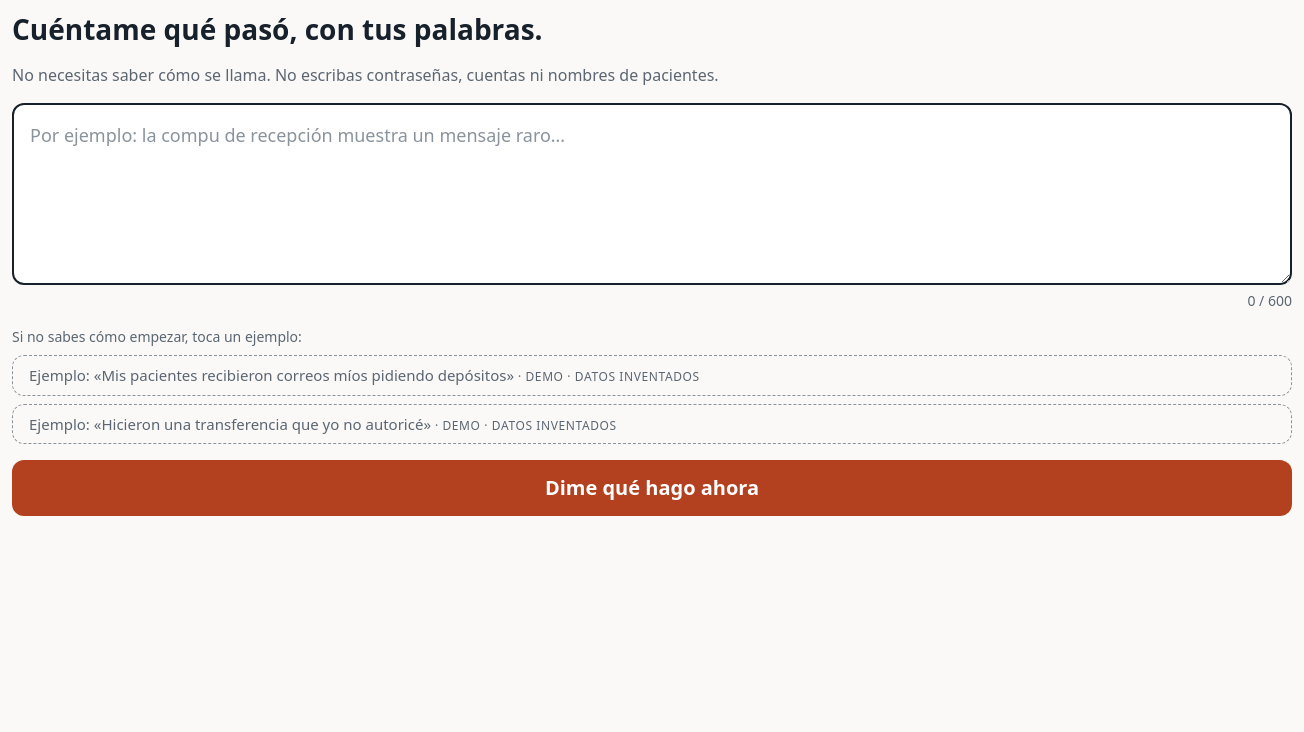
Test case: describe screen › rejects a 3-character input in Spanish and sends nothing
Type "hol" into the text box at (652, 194), box x1=12 y1=103 x2=1292 y2=285
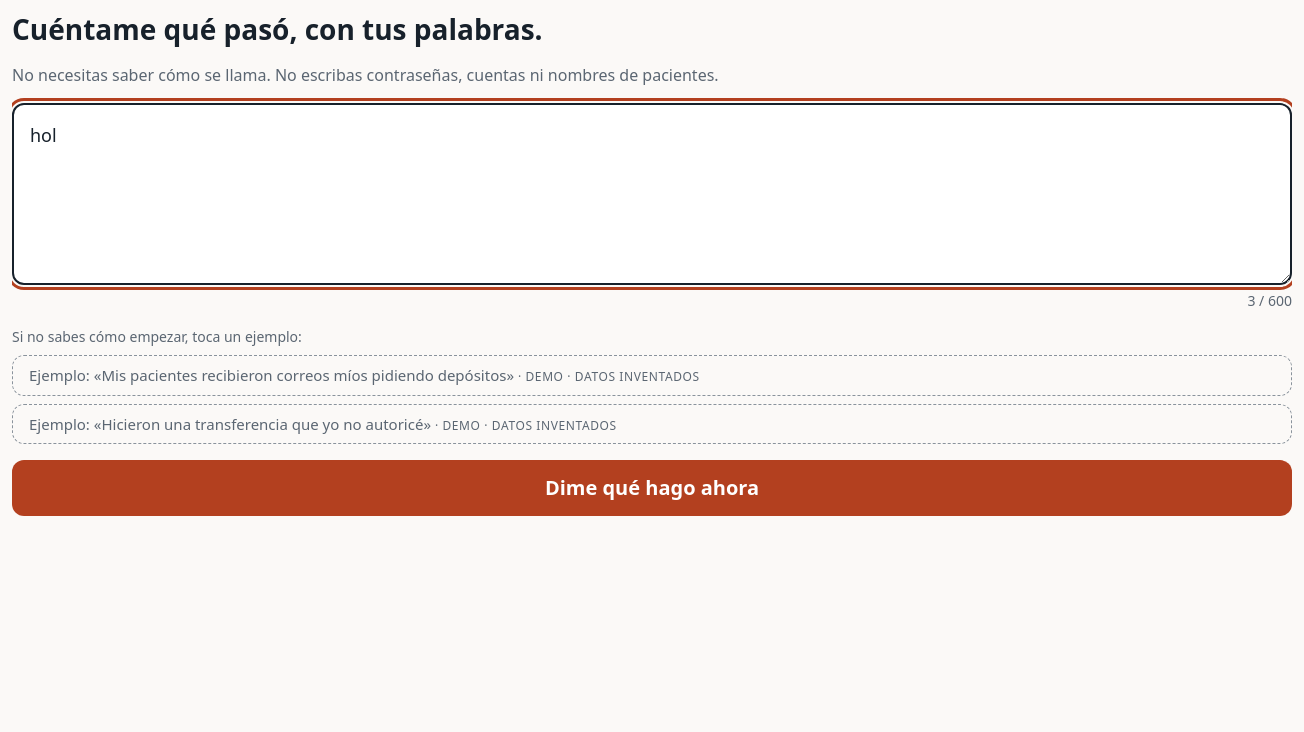
Click the button "Dime qué hago ahora" at (652, 488), box x1=12 y1=460 x2=1292 y2=516
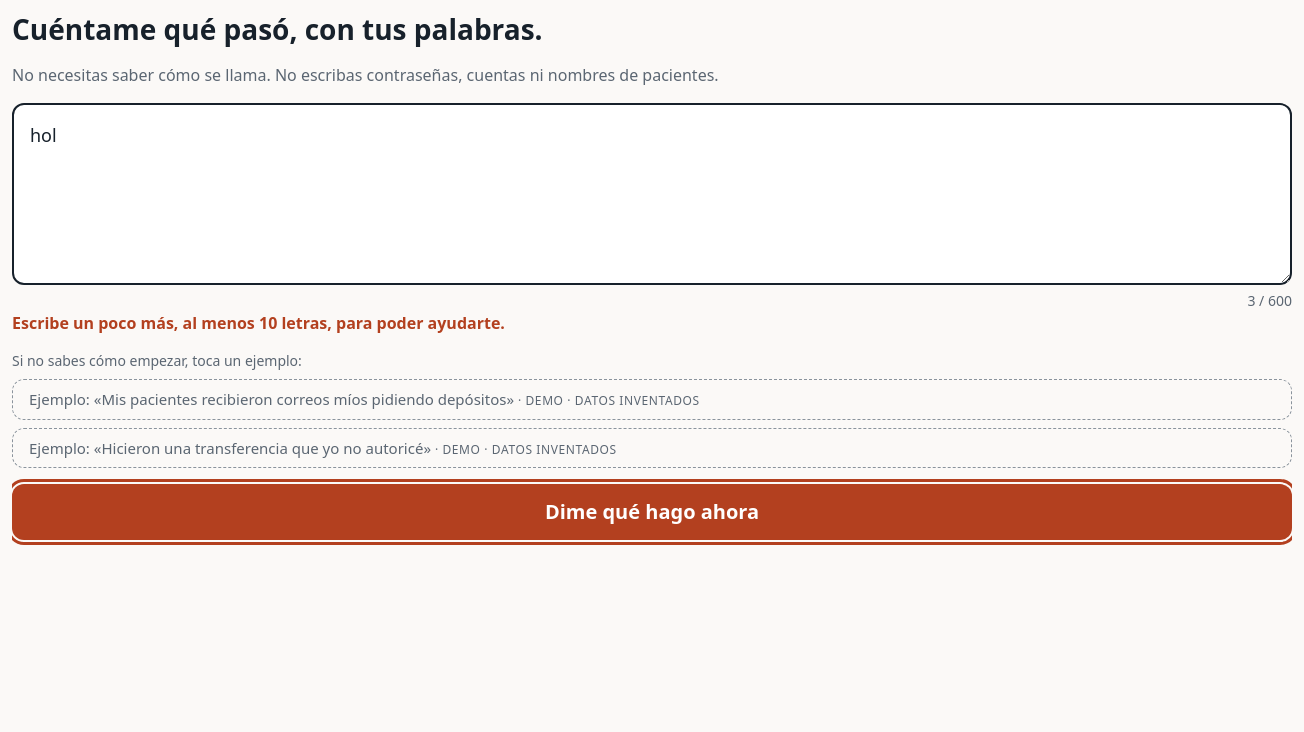
Check: the message shows "Escribe un poco más", box x1=12 y1=312 x2=505 y2=334
